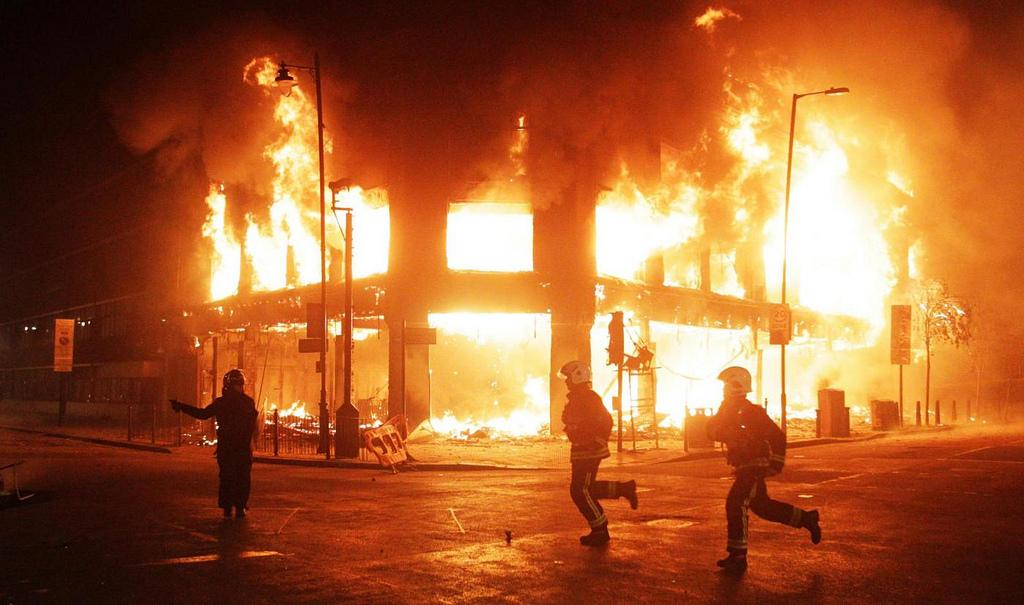fire: (782, 162, 893, 315), (210, 193, 385, 282), (428, 312, 557, 430), (598, 198, 690, 273), (442, 207, 535, 270), (658, 323, 727, 407)
